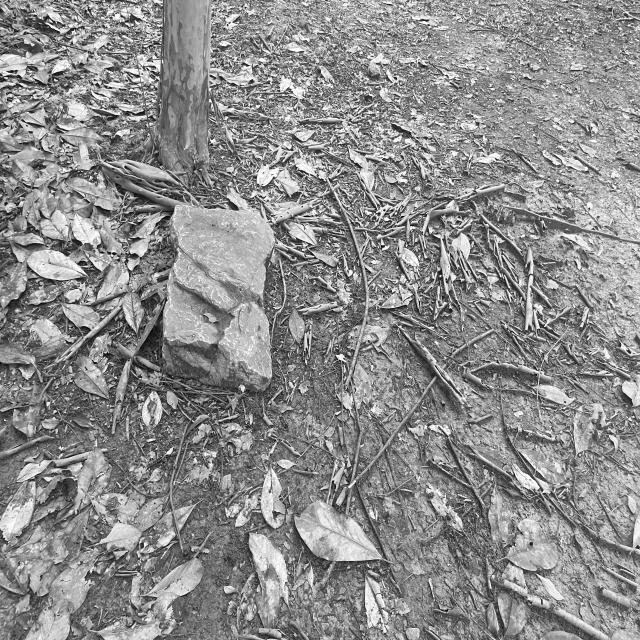Stone: (164, 205, 274, 390)
